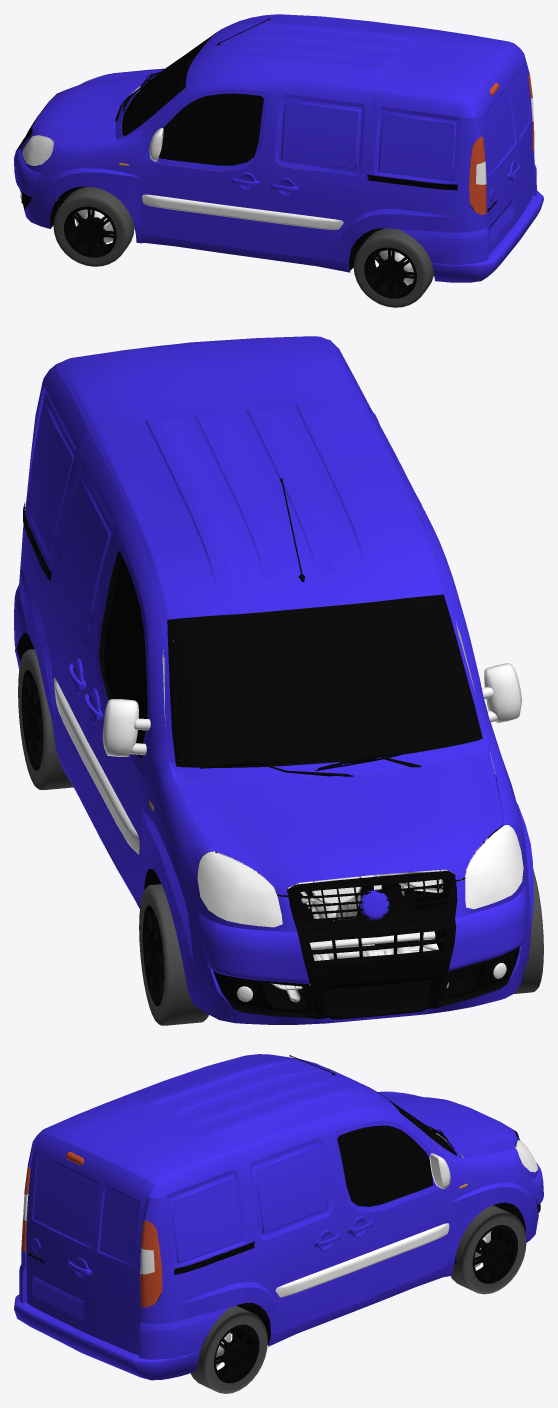
File: araba-green.glb
3 views of the same model, one above another, from view 1: azimuth 30°, elevation 25°; view 2: azimuth 150°, elevation 25°; view 3: azimuth 270°, elevation 25° (orthographic). The views are drawn at different scales.
Parts seen in each view (by area): view 1: GeometryNode_63, GeometryNode_74, GeometryNode_86, GeometryNode_141, GeometryNode_108, GeometryNode_130, GeometryNode_152, GeometryNode_36; view 2: GeometryNode_63, GeometryNode_74, GeometryNode_86, GeometryNode_152, GeometryNode_141, GeometryNode_108, GeometryNode_36, GeometryNode_25; view 3: GeometryNode_63, GeometryNode_74, GeometryNode_86, GeometryNode_141, GeometryNode_108, GeometryNode_130, GeometryNode_14, GeometryNode_152.
Part boxes in pixels (bbox=[...]): GeometryNode_63: bbox=[14, 14, 543, 282]; GeometryNode_74: bbox=[122, 36, 263, 165]; GeometryNode_86: bbox=[16, 18, 496, 298]; GeometryNode_141: bbox=[53, 186, 433, 307]; GeometryNode_108: bbox=[142, 128, 343, 230]; GeometryNode_130: bbox=[469, 75, 534, 214]; GeometryNode_152: bbox=[20, 75, 105, 201]; GeometryNode_36: bbox=[56, 198, 413, 284]; GeometryNode_63: bbox=[14, 336, 533, 1024]; GeometryNode_74: bbox=[103, 517, 477, 767]; GeometryNode_86: bbox=[16, 478, 523, 1019]; GeometryNode_152: bbox=[197, 825, 523, 1001]; GeometryNode_141: bbox=[18, 649, 543, 1025]; GeometryNode_108: bbox=[54, 663, 521, 854]; GeometryNode_36: bbox=[271, 891, 448, 1002]; GeometryNode_25: bbox=[211, 831, 495, 903]; GeometryNode_63: bbox=[14, 1054, 543, 1380]; GeometryNode_74: bbox=[337, 1087, 455, 1205]; GeometryNode_86: bbox=[28, 1055, 540, 1383]; GeometryNode_141: bbox=[190, 1205, 526, 1393]; GeometryNode_108: bbox=[275, 1153, 450, 1297]; GeometryNode_130: bbox=[21, 1152, 162, 1307]; GeometryNode_14: bbox=[23, 1193, 154, 1274]; GeometryNode_152: bbox=[390, 1092, 538, 1172].
Bounding box in the file's own units: 128 × 69.96 × 134.
